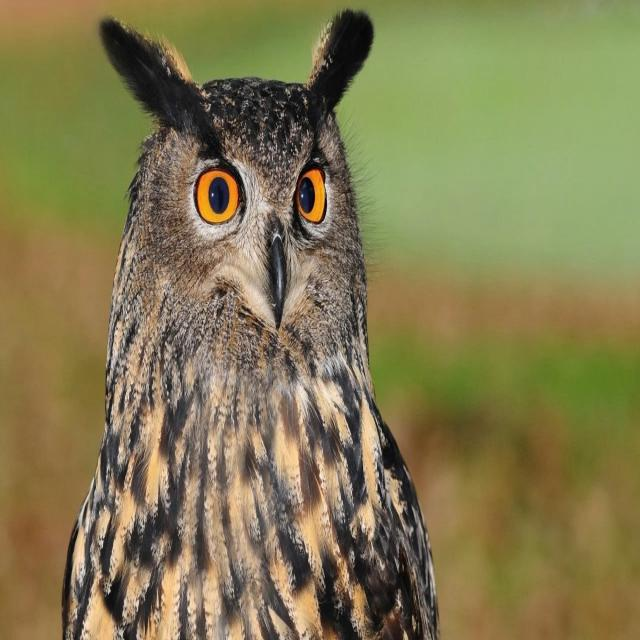owl: (62, 10, 438, 639)
